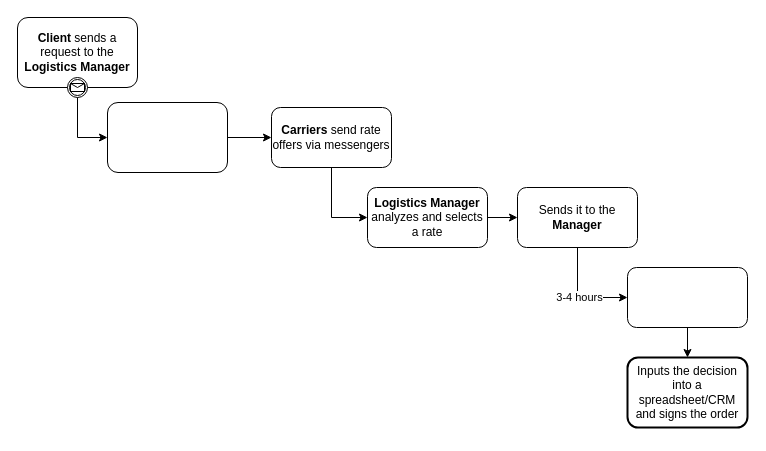
This 766x451 diagram has some shape labels left out. Each missing label, with the centre of its shape:
"Logistics Manager manually starts searching for a Carrier" goes at point 167,137.
"Logistics Manager receives a response from the Manager" goes at point 687,297.
